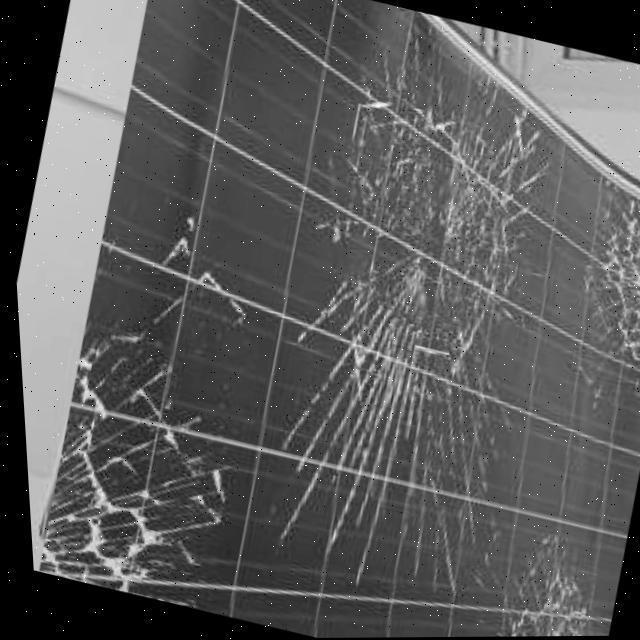Anomaly Solar Panel: (30, 0, 640, 638)
Structural Damage: (242, 0, 582, 616), (32, 188, 272, 610), (462, 506, 612, 637), (553, 188, 640, 390)
